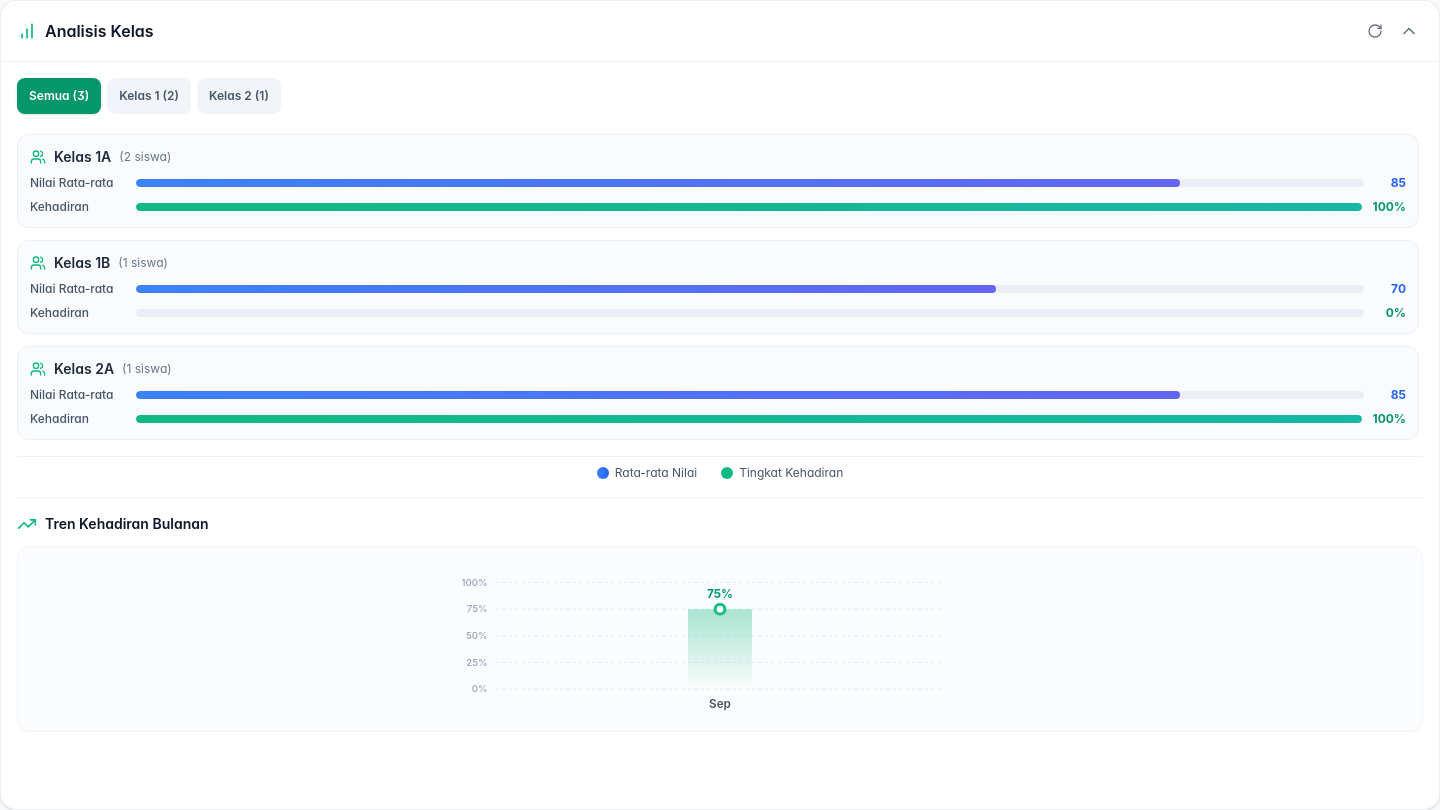
Scenario: ClassAnalyticsSection › renders grade filter chips and filters classes correctly
Check: the button "Semua (3)" is shown, box 17,78 -> 101,114
Check: the button "Kelas 1 (2)" is shown, box 107,78 -> 191,114
Click Kelas 2 filter
Click the button "Kelas 2 (1)".
click(239, 96)  # box 197,78 -> 281,114
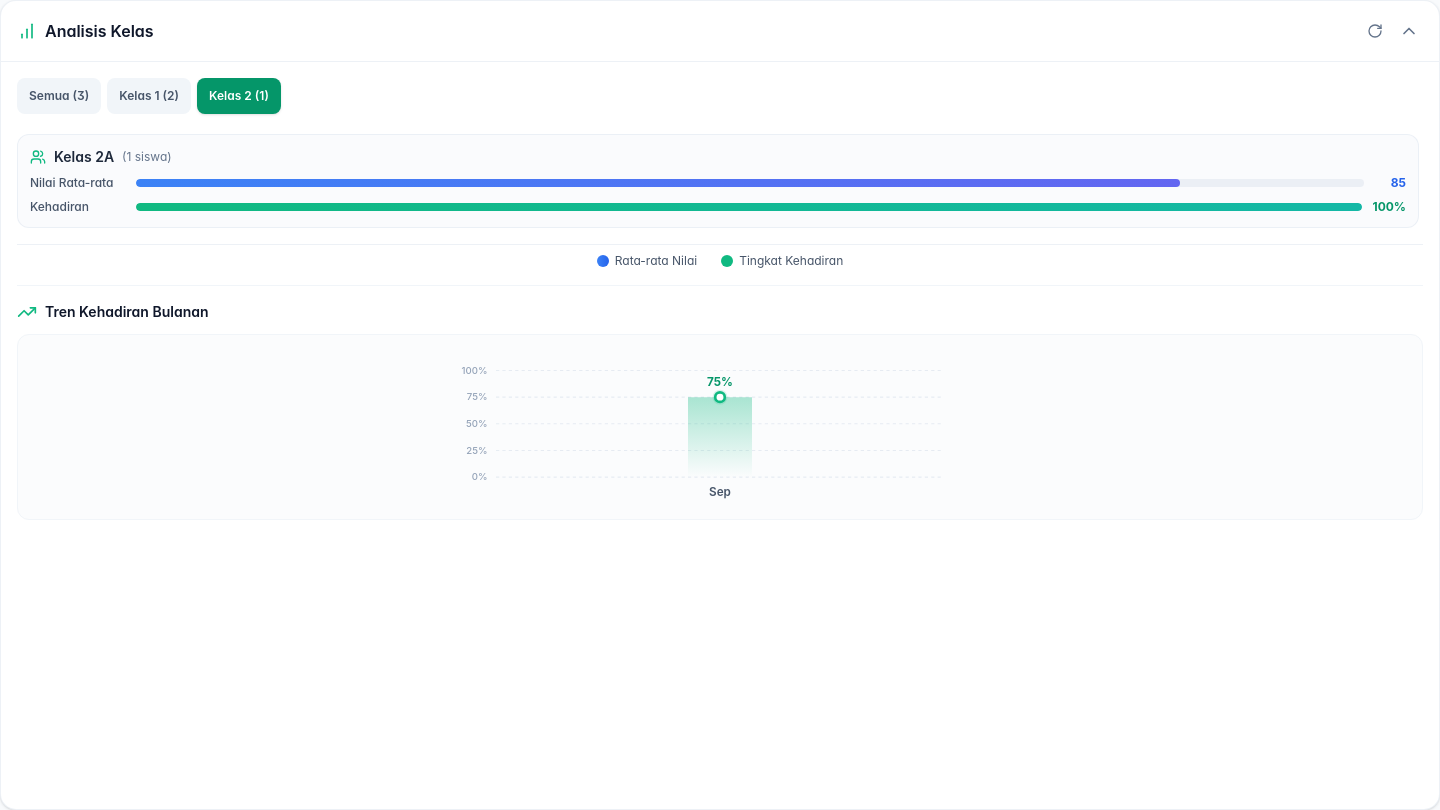
Check: the text "Kelas 2A" is shown, box 54,148 -> 114,165
Check: the text "Kelas 1A" is gone
Check: the text "Kelas 1B" is gone
Click back to Semua
Click the button "Semua (3)".
click(59, 96)  # box 17,78 -> 101,114
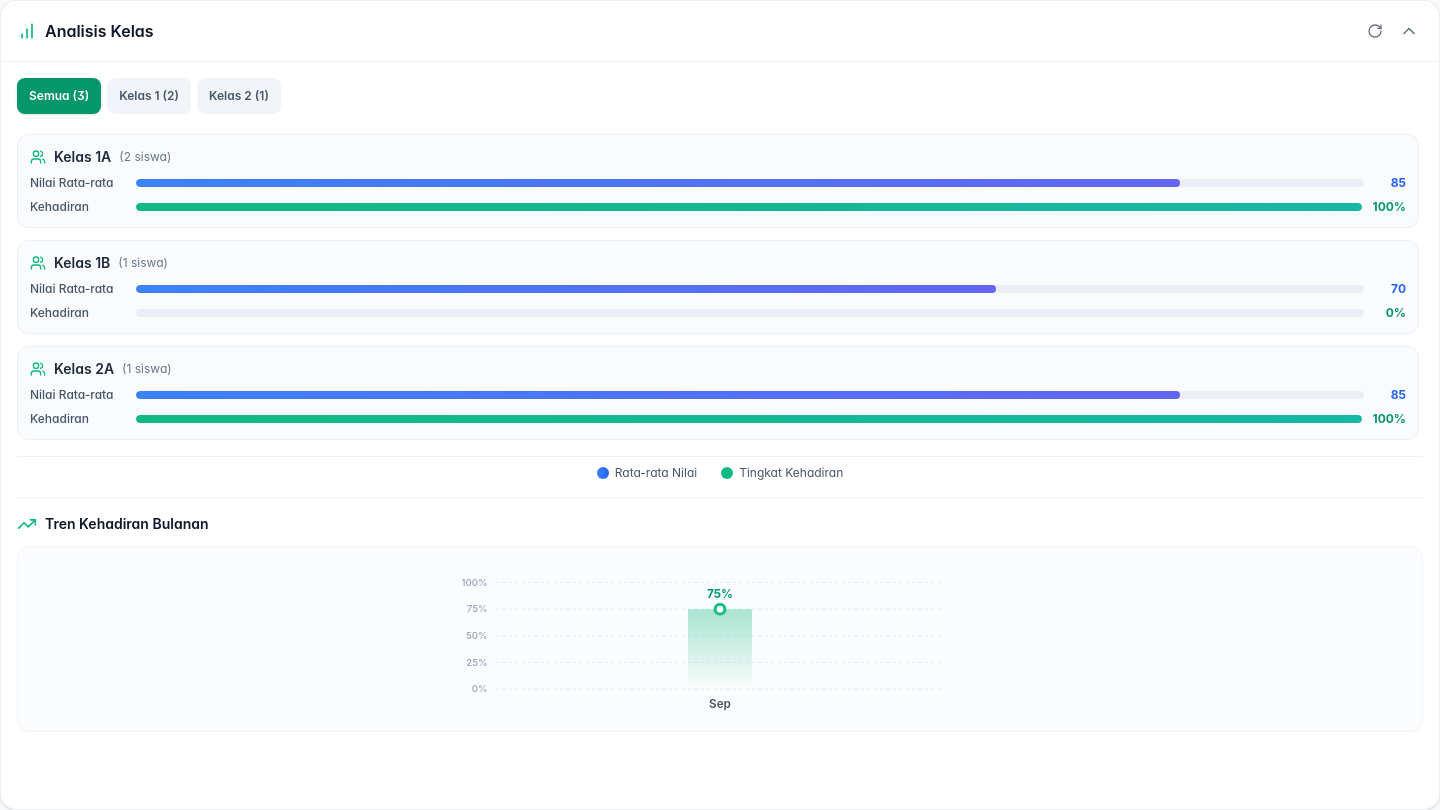
Check: the text "Kelas 2A" is shown, box 54,360 -> 114,377
Check: the text "Kelas 1A" is shown, box 54,148 -> 111,165
